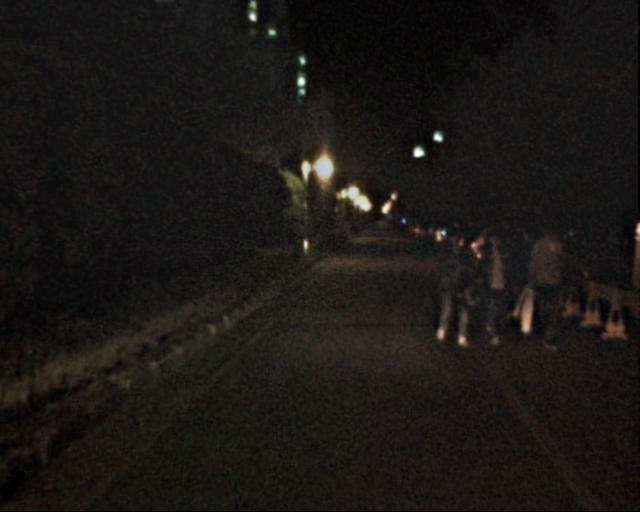person: (518, 226, 570, 352), (428, 231, 476, 349), (468, 231, 515, 345), (512, 229, 538, 292), (498, 237, 521, 293)
